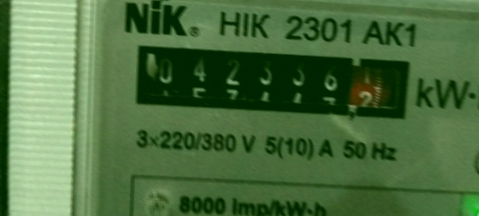0: (157, 54, 174, 83)
1: (360, 61, 373, 84)
2: (225, 54, 242, 84), (357, 87, 374, 106)
3: (289, 55, 307, 86), (257, 55, 273, 84)
4: (191, 51, 210, 81)
6: (322, 59, 341, 90)
screen: (123, 29, 423, 129)
